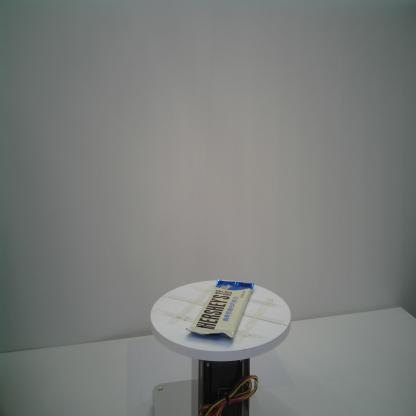Chocolate: (183, 278, 255, 344)
